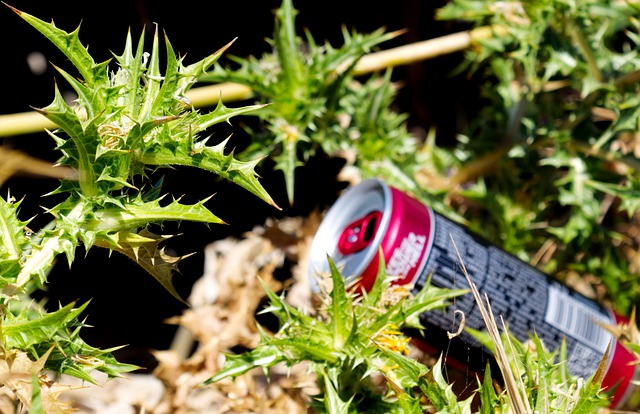can: (304, 154, 636, 414)
